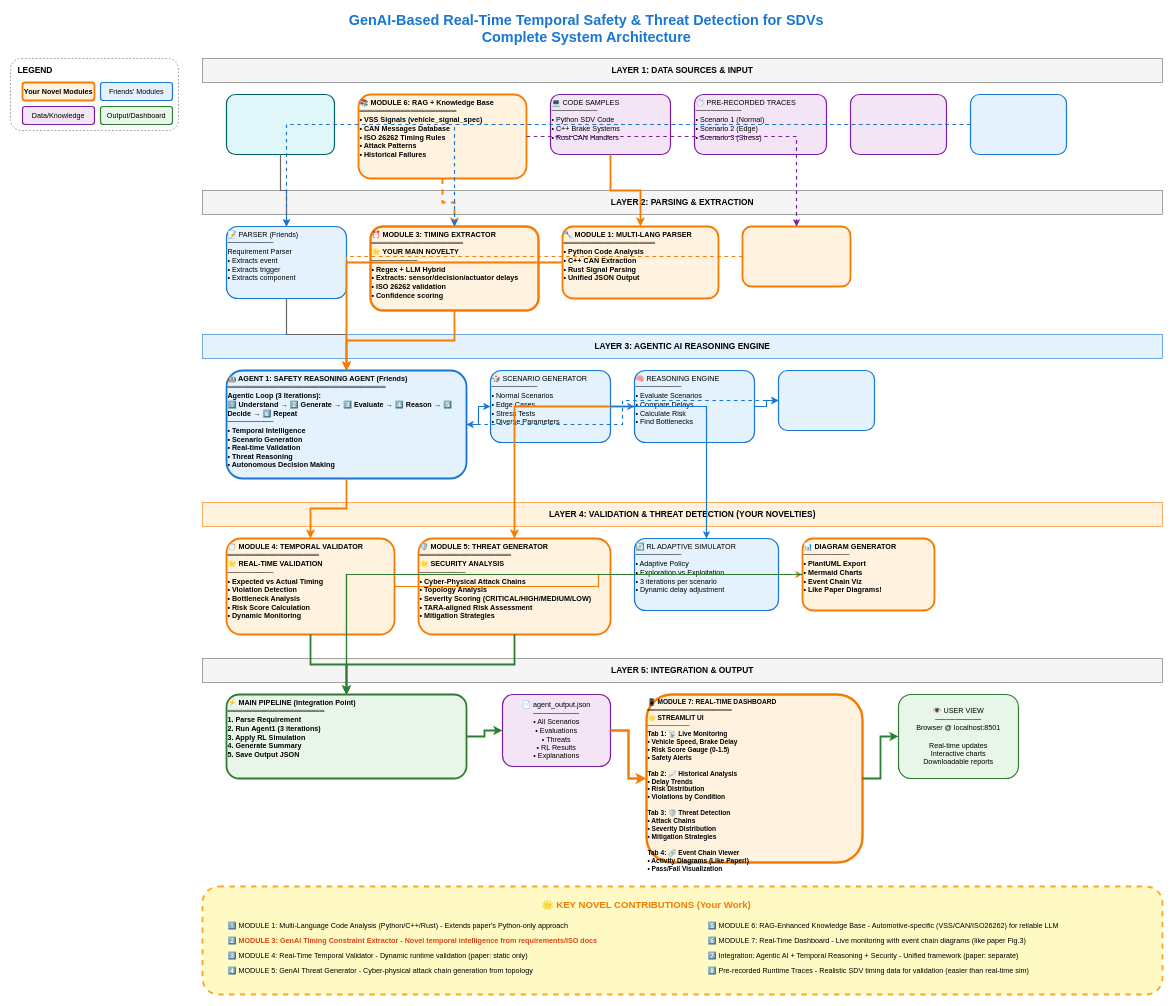
Image size: 1174x1006. Some labels were removed from this diagram. Here are the shapes that lost their labels. From the top down, the centre of each, then its label:
At [280,124]: "👤 USER INPUT ───────── Safety Requirement (Natural Language)".
At [898,124]: "⚙️ CONFIG ───────── • ISO Rules • Thresholds • LLM Settings".
At [1018,124]: "🤖 LLM CLIENT ───────── Groq API (Llama 3.3 70B)".
At [796,256]: "🔍 RAG ENGINE ───────── • Vector Search • Context Retrieval • Signal Validation".
At [826,400]: "💾 MEMORY ───────── • Past Delays • Violations • Severities • Agent History".
